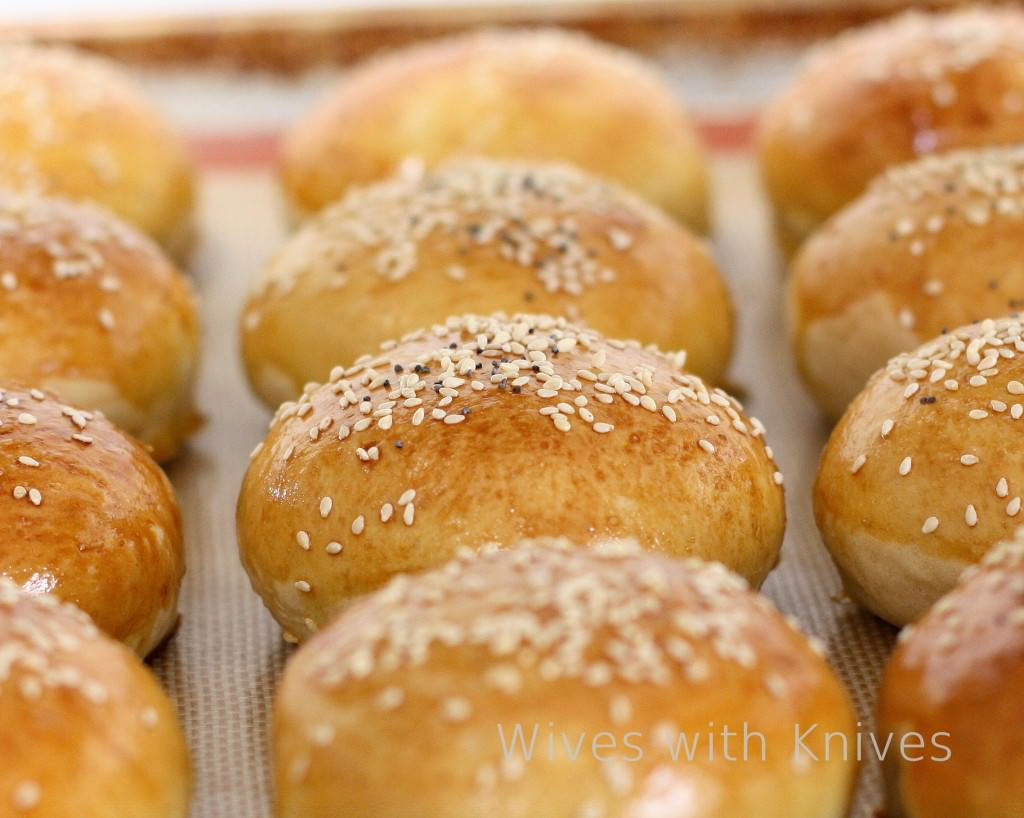hamburger_buns: (204, 299, 825, 624), (249, 530, 839, 818), (243, 146, 783, 416), (776, 135, 1024, 341)
